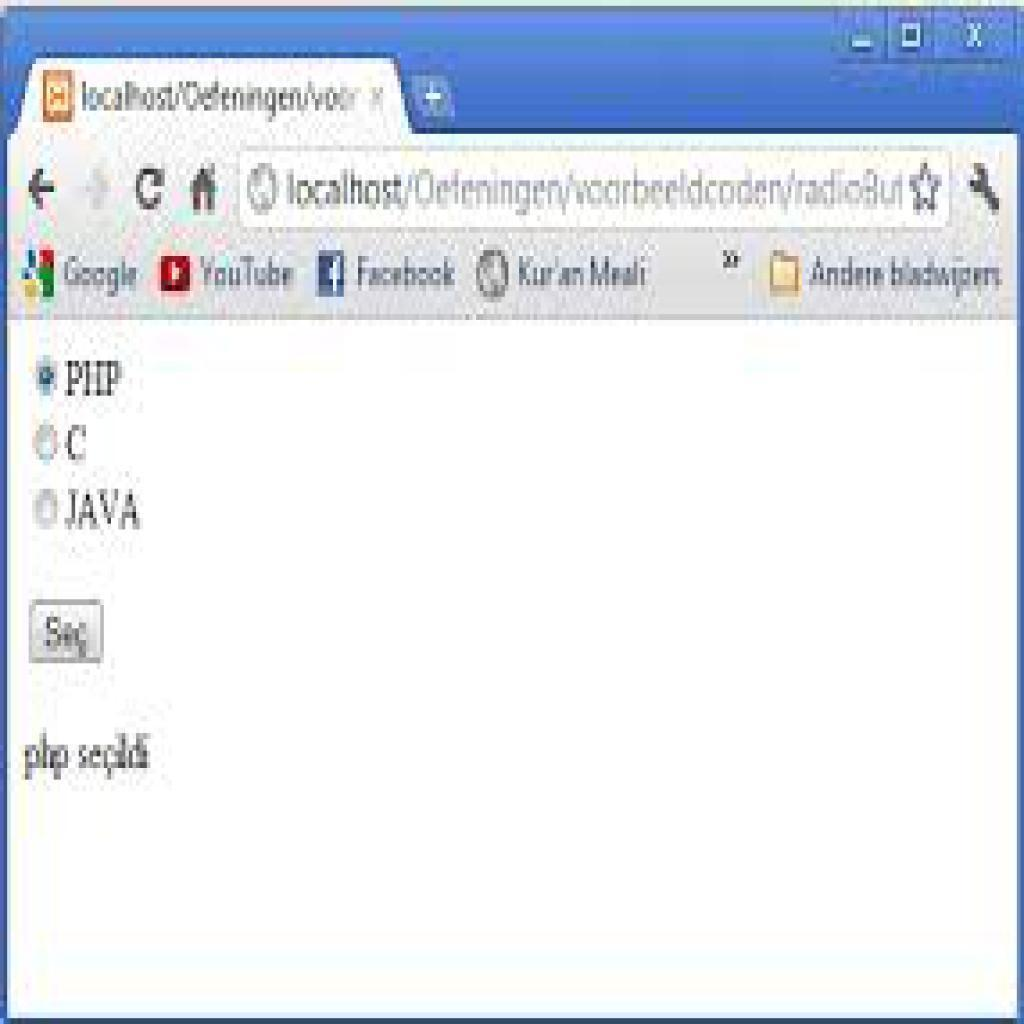button: (30, 603, 101, 666)
radio: (28, 338, 69, 409), (30, 484, 65, 547), (32, 418, 65, 466)
